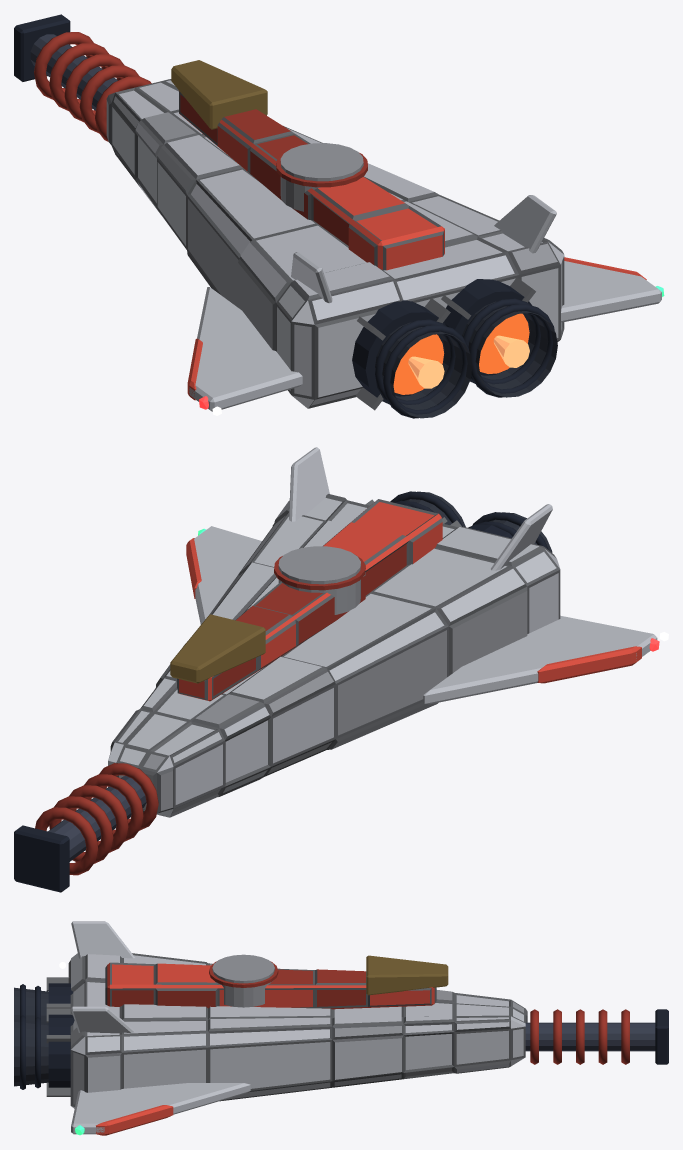
Rendered from pike.glb.
3 renders of one model, top to bottom at view 1: azimuth 30°, elevation 25°; view 2: azimuth 150°, elevation 25°; view 3: azimuth 270°, elevation 25°, orthographic. The views are drawn at different scales.
Parts seen in each view (by area): view 1: pike_mesh; view 2: pike_mesh; view 3: pike_mesh.
Boxes of the visible parts, box(x1,y1,x2,y2) form: pike_mesh: box(14, 14, 664, 418); pike_mesh: box(14, 447, 659, 892); pike_mesh: box(14, 921, 668, 1135).
Size of the model in its own units: 6.16 by 1.93 by 10.08.
